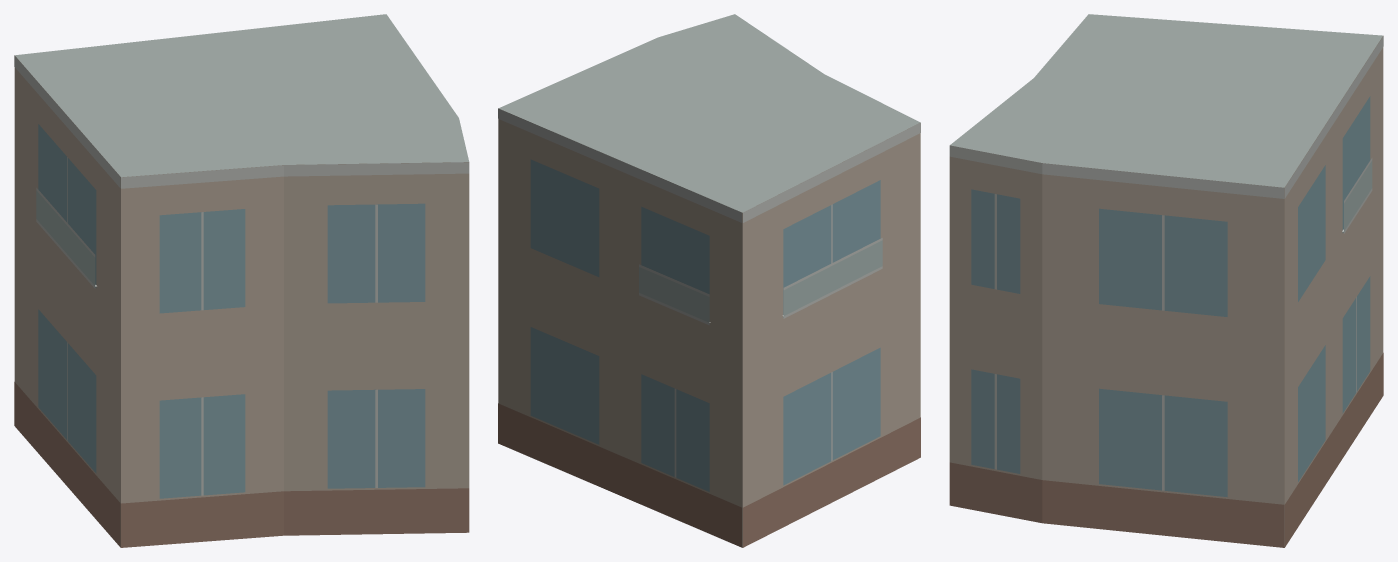
File: survey-upis-32469678.glb
3 views of the same model, side by side, from view 1: azimuth 30°, elevation 25°; view 2: azimuth 150°, elevation 25°; view 3: azimuth 270°, elevation 25° (orthographic). The views are drawn at different scales.
Parts seen in each view (by area): view 1: survey-upis-32469678.tmp; view 2: survey-upis-32469678.tmp; view 3: survey-upis-32469678.tmp.
Boxes of the visible parts, x1=… form: survey-upis-32469678.tmp: x1=14, y1=14, x2=469, y2=547; survey-upis-32469678.tmp: x1=498, y1=14, x2=920, y2=547; survey-upis-32469678.tmp: x1=949, y1=14, x2=1383, y2=547.
Size of the model in its own units: 8.08 by 7.8 by 8.52.
